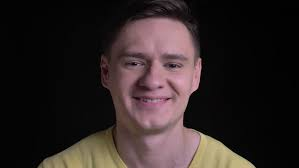white_male: (100, 32, 191, 149)
